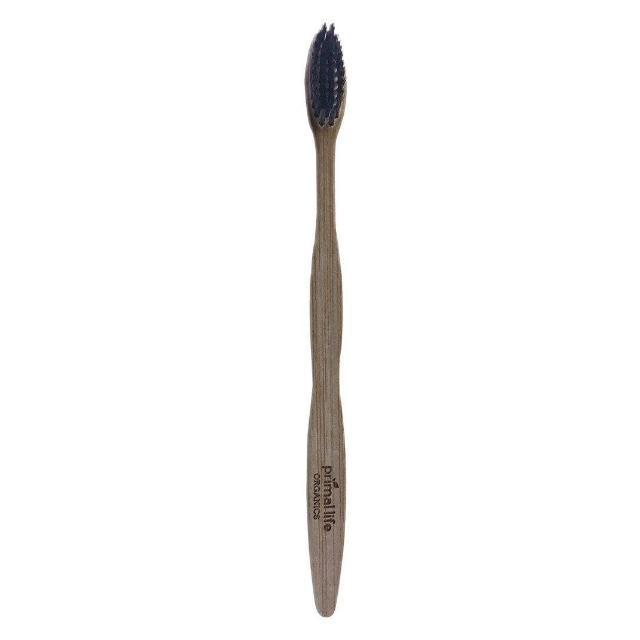toothbrush: (248, 0, 424, 622)
